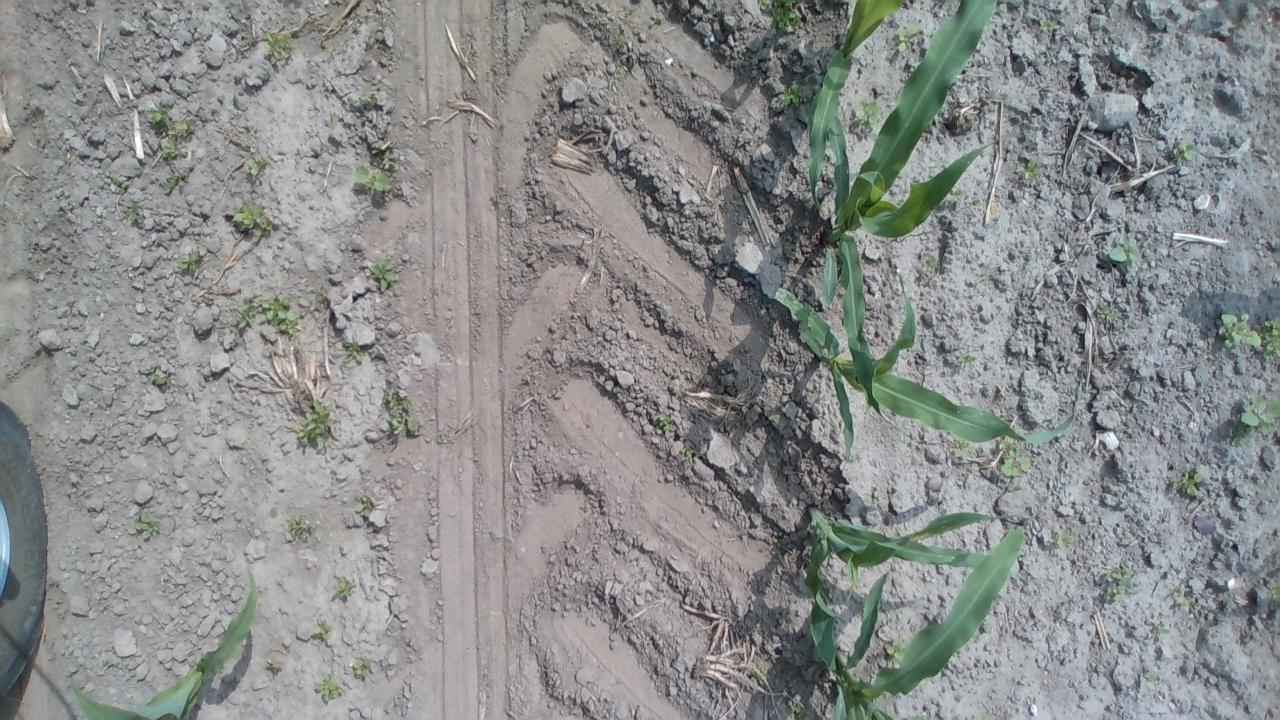Maize: (804, 3, 1006, 432), (748, 228, 1048, 460), (812, 521, 1040, 720), (66, 559, 267, 720), (788, 503, 1024, 602), (801, 0, 906, 198)
Weeds: (230, 292, 314, 343), (144, 101, 198, 167), (293, 394, 339, 456), (380, 386, 426, 447), (1228, 392, 1279, 446), (1216, 308, 1264, 361), (346, 160, 401, 202), (228, 198, 280, 238), (756, 1, 810, 38), (850, 88, 888, 136), (1108, 229, 1144, 278), (1172, 458, 1210, 503), (364, 252, 404, 294), (1095, 560, 1133, 604), (995, 442, 1036, 482), (346, 652, 390, 686), (1256, 308, 1280, 365), (306, 616, 341, 652), (1168, 138, 1204, 171), (130, 507, 162, 544), (774, 80, 810, 112), (238, 154, 273, 186), (1013, 156, 1049, 186), (172, 244, 205, 276), (264, 28, 295, 62), (1048, 524, 1078, 559), (284, 507, 314, 542), (352, 490, 379, 528), (1138, 608, 1168, 642), (313, 673, 346, 702), (340, 334, 366, 370), (895, 22, 918, 62), (332, 571, 359, 605), (123, 196, 146, 232), (160, 167, 193, 192), (879, 638, 908, 666), (146, 366, 173, 395), (1096, 300, 1122, 330), (919, 251, 940, 288), (351, 91, 384, 113), (1172, 580, 1194, 612), (104, 171, 140, 189), (948, 441, 978, 461), (672, 435, 696, 458), (1267, 568, 1280, 605), (752, 662, 772, 686), (768, 536, 798, 552), (1141, 667, 1166, 685), (608, 29, 627, 50), (656, 407, 674, 428), (1037, 15, 1058, 33), (959, 353, 978, 370), (788, 701, 808, 717), (654, 12, 668, 28)
